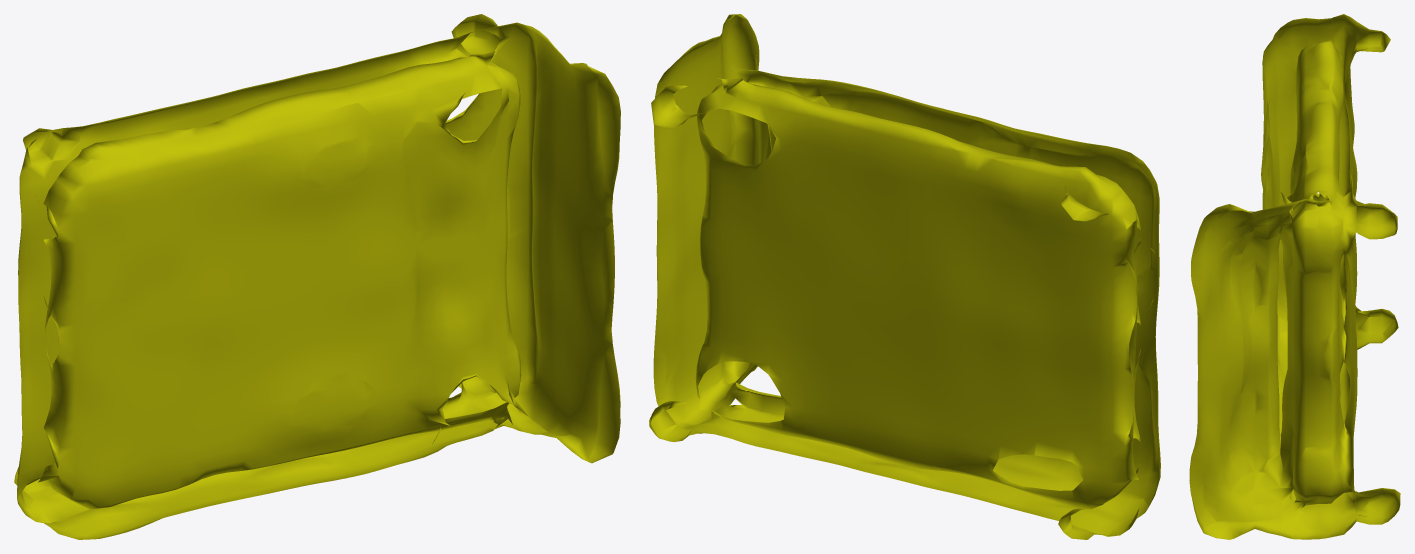
3 renders of one model, left to right at view 1: azimuth 30°, elevation 25°; view 2: azimuth 150°, elevation 25°; view 3: azimuth 270°, elevation 25°, orthographic. The views are drawn at different scales.
Visible parts, largest first — view 1: world; view 2: world; view 3: world.
Boxes of the visible parts, left/top/right/bottom form: world: left=14, top=14, right=620, bottom=539; world: left=649, top=14, right=1160, bottom=539; world: left=1189, top=14, right=1400, bottom=539.
Bounding box in the file's own units: 40.08 × 29.29 × 16.61.
